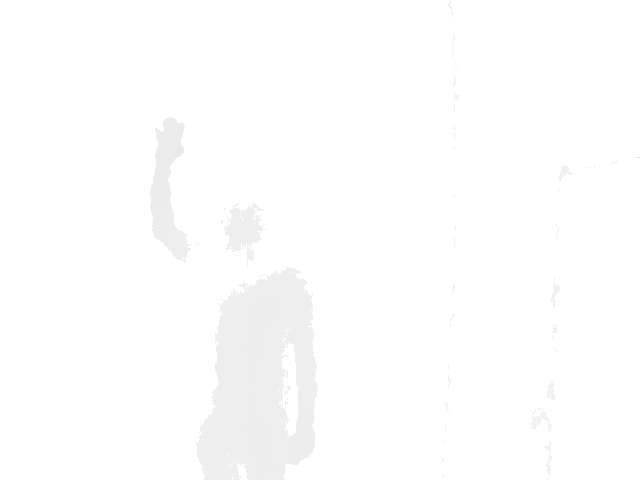hand: (152, 116, 186, 164)
person: (148, 116, 317, 480)
